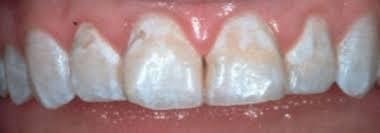Calculus: (122, 10, 207, 110), (206, 12, 286, 104)
